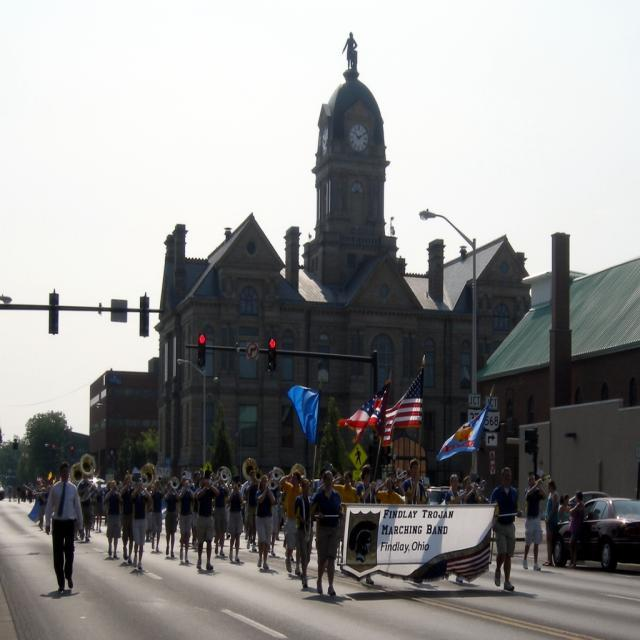traffic light: (194, 333, 207, 367), (267, 338, 278, 374)
